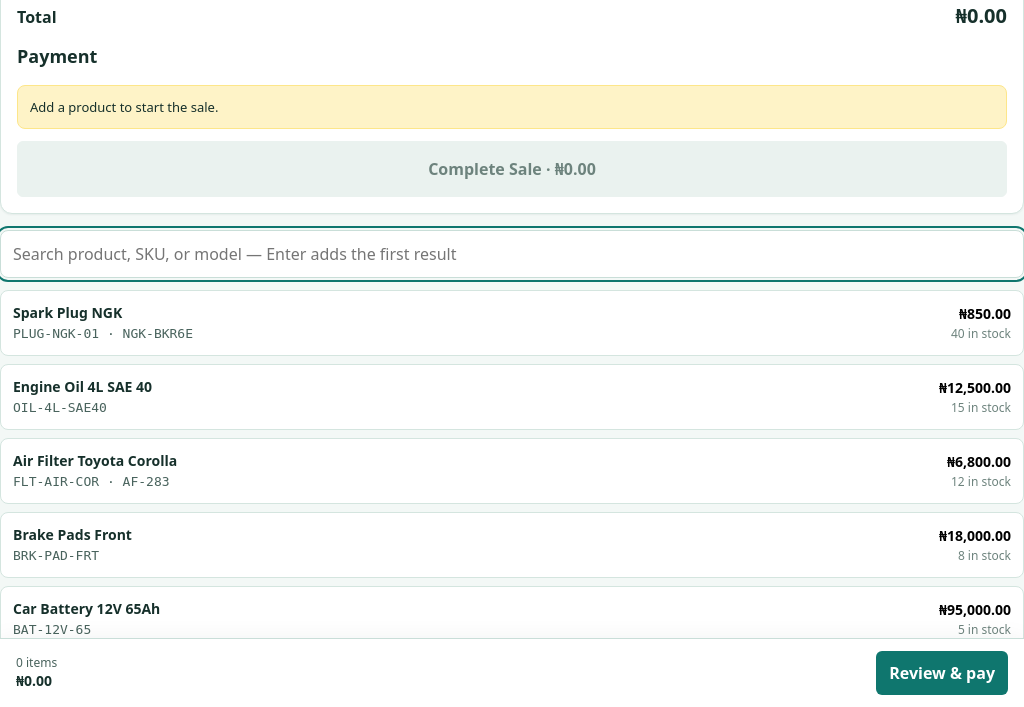
POS journeys › asks before discarding an unfinished sale
(page scrolled)
Click the button "Spark Plug NGK PLUG-NGK-01 · NGK-BKR6E ₦850.00 40 in stock". click: [68, 312]
box: [0, 290, 1023, 356]
(page scrolled)
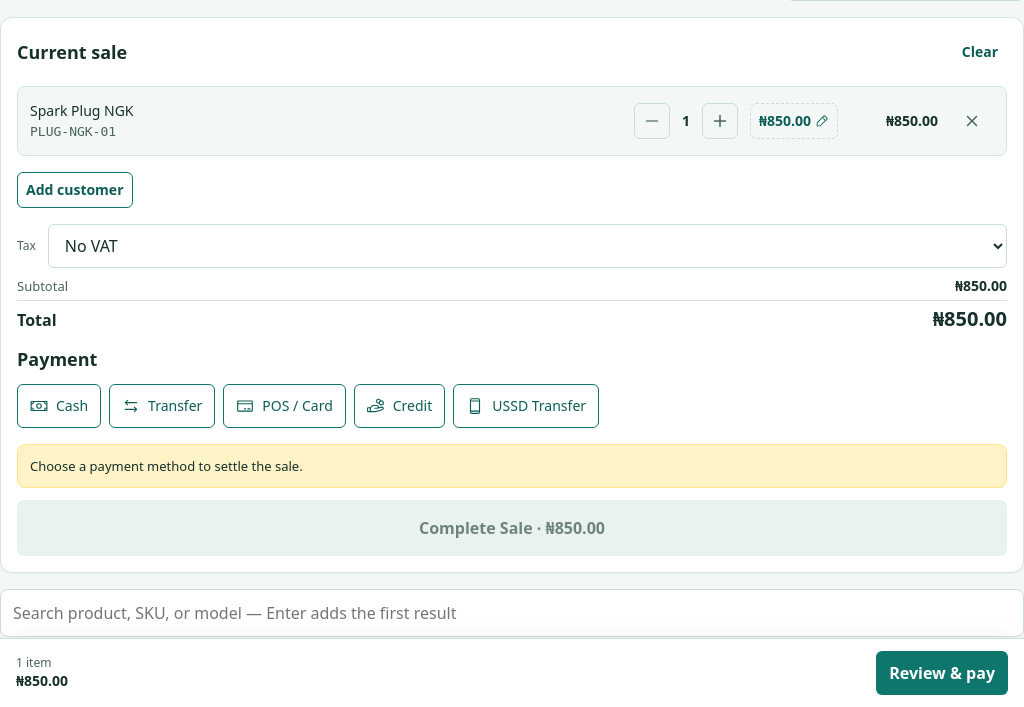
Click the button "Clear". click: [980, 52]
box: [953, 34, 1007, 70]
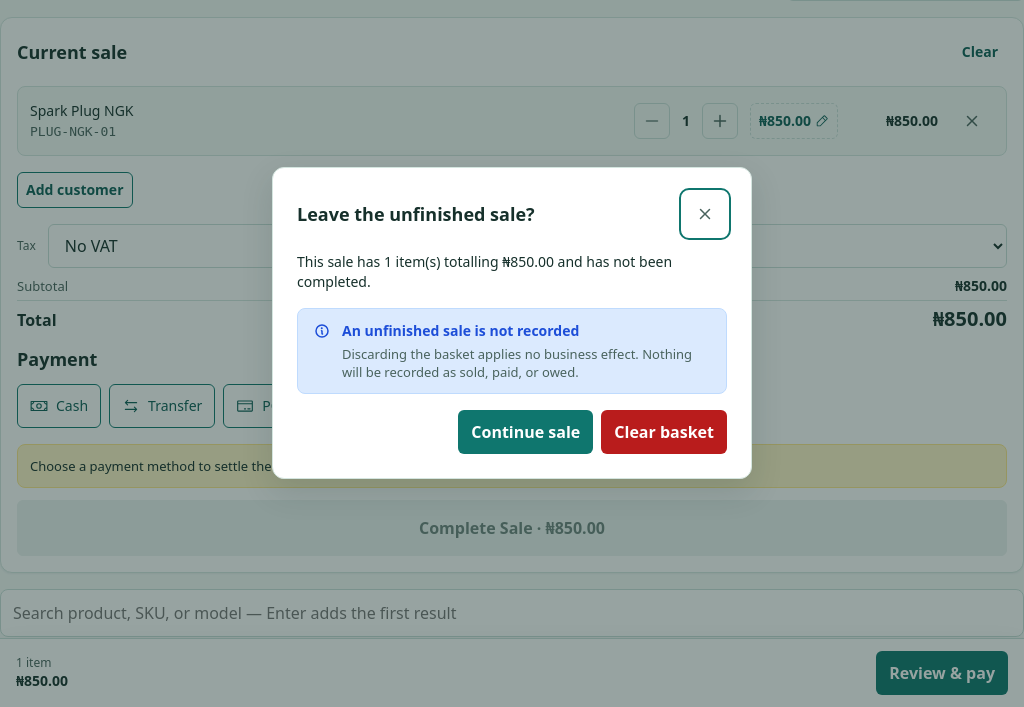
Expected: the heading "Leave the unfinished sale?" is shown, [297, 201, 535, 227]
Click the button "Clear basket". click: [664, 432]
box: [601, 410, 727, 454]
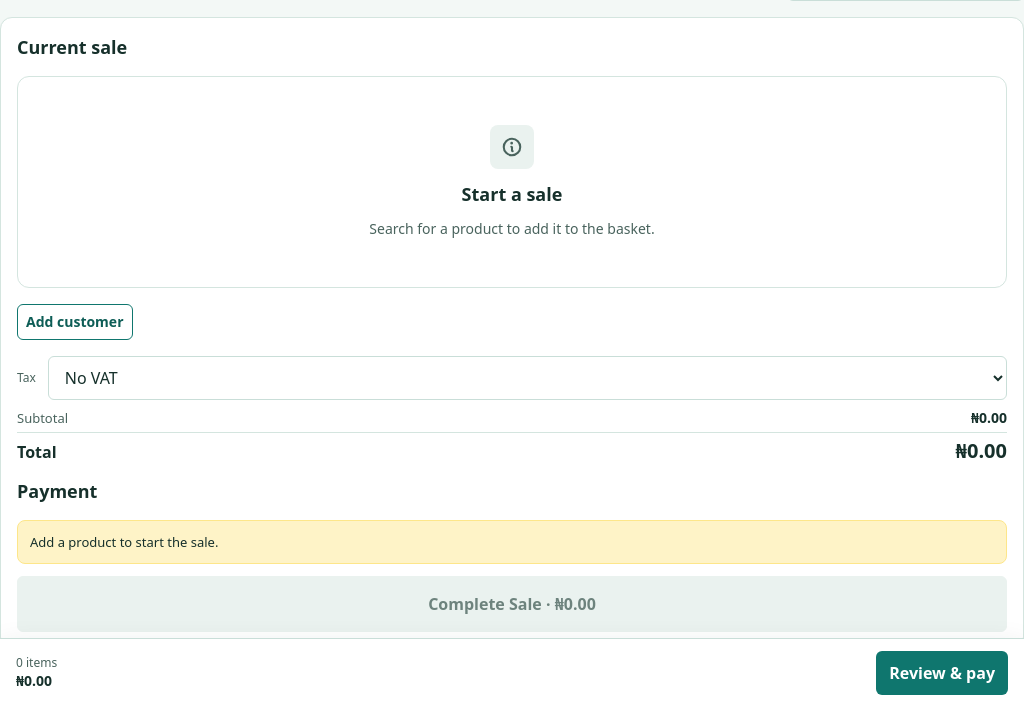
Expected: the heading "Start a sale" is shown, [462, 181, 562, 207]
